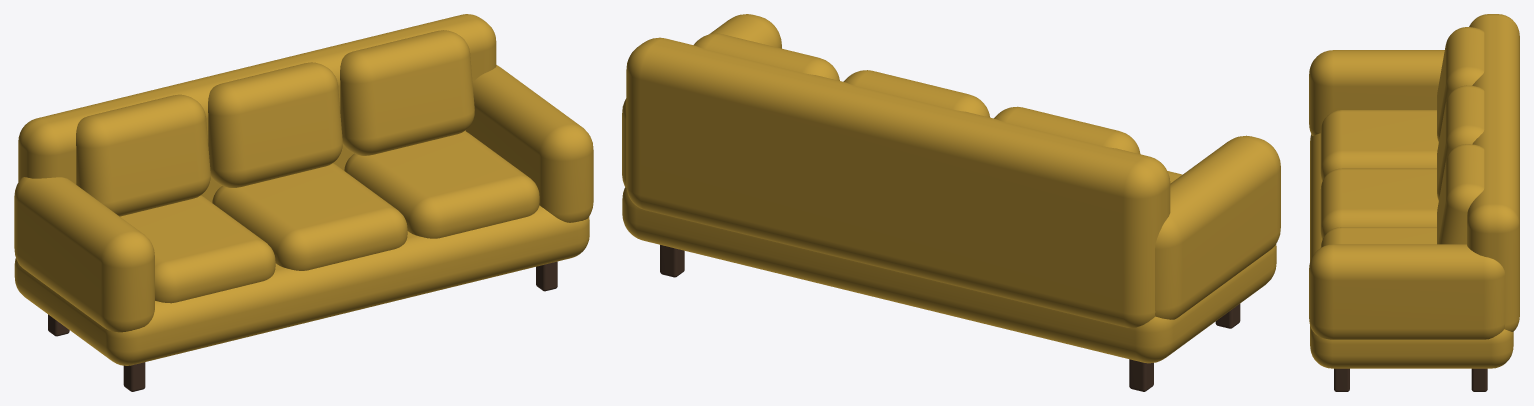
Rendered from sofa_no_pillows_mustard_yellow.glb.
The picture shows the model from 3 angles, left to right: view 1: azimuth 30°, elevation 25°; view 2: azimuth 150°, elevation 25°; view 3: azimuth 270°, elevation 25°; orthographic projection. The views are drawn at different scales.
Visible parts, largest first — view 1: Upholstered foundation, Rounded padded arm, Plush back cushion.002, Plush back cushion.001, Plush back cushion, Seat cushion.002, Seat cushion.001, Rounded padded arm.001, Padded back frame, Seat cushion, Walnut foot, Walnut foot.002; view 2: Padded back frame, Upholstered foundation, Rounded padded arm, Plush back cushion.001, Plush back cushion.002, Plush back cushion, Rounded padded arm.001, Walnut foot.001, Walnut foot.003; view 3: Rounded padded arm.001, Padded back frame, Rounded padded arm, Upholstered foundation, Seat cushion, Seat cushion.001, Plush back cushion.002, Plush back cushion.001, Plush back cushion, Seat cushion.002, Walnut foot.003, Walnut foot.002.
Boxes of the visible parts, x1,y1,x2,y2 form: Upholstered foundation: [14, 205, 589, 365]; Rounded padded arm: [14, 177, 154, 332]; Plush back cushion.002: [340, 30, 474, 155]; Plush back cushion.001: [208, 62, 342, 187]; Plush back cushion: [76, 94, 210, 216]; Seat cushion.002: [344, 131, 539, 238]; Seat cushion.001: [212, 163, 407, 270]; Rounded padded arm.001: [466, 65, 593, 222]; Padded back frame: [18, 14, 496, 202]; Seat cushion: [120, 195, 275, 303]; Walnut foot: [123, 362, 145, 391]; Walnut foot.002: [536, 261, 557, 291]; Padded back frame: [626, 37, 1170, 328]; Upholstered foundation: [622, 187, 1276, 363]; Rounded padded arm: [1155, 135, 1280, 319]; Plush back cushion.001: [843, 70, 990, 117]; Plush back cushion.002: [693, 33, 839, 80]; Plush back cushion: [994, 106, 1140, 154]; Rounded padded arm.001: [622, 14, 781, 187]; Walnut foot.001: [1129, 359, 1153, 391]; Walnut foot.003: [660, 245, 684, 277]; Rounded padded arm.001: [1309, 244, 1505, 339]; Padded back frame: [1467, 14, 1519, 331]; Rounded padded arm: [1309, 50, 1444, 135]; Upholstered foundation: [1310, 133, 1513, 368]; Seat cushion: [1320, 110, 1438, 181]; Seat cushion.001: [1320, 168, 1438, 239]; Plush back cushion.002: [1437, 144, 1484, 244]; Plush back cushion.001: [1437, 85, 1484, 200]; Plush back cushion: [1437, 27, 1484, 142]; Seat cushion.002: [1320, 227, 1436, 247]; Walnut foot.003: [1471, 368, 1487, 391]; Walnut foot.002: [1334, 368, 1349, 391].
Bounding box in the file's own units: 2.42 × 0.9999 × 0.995.
